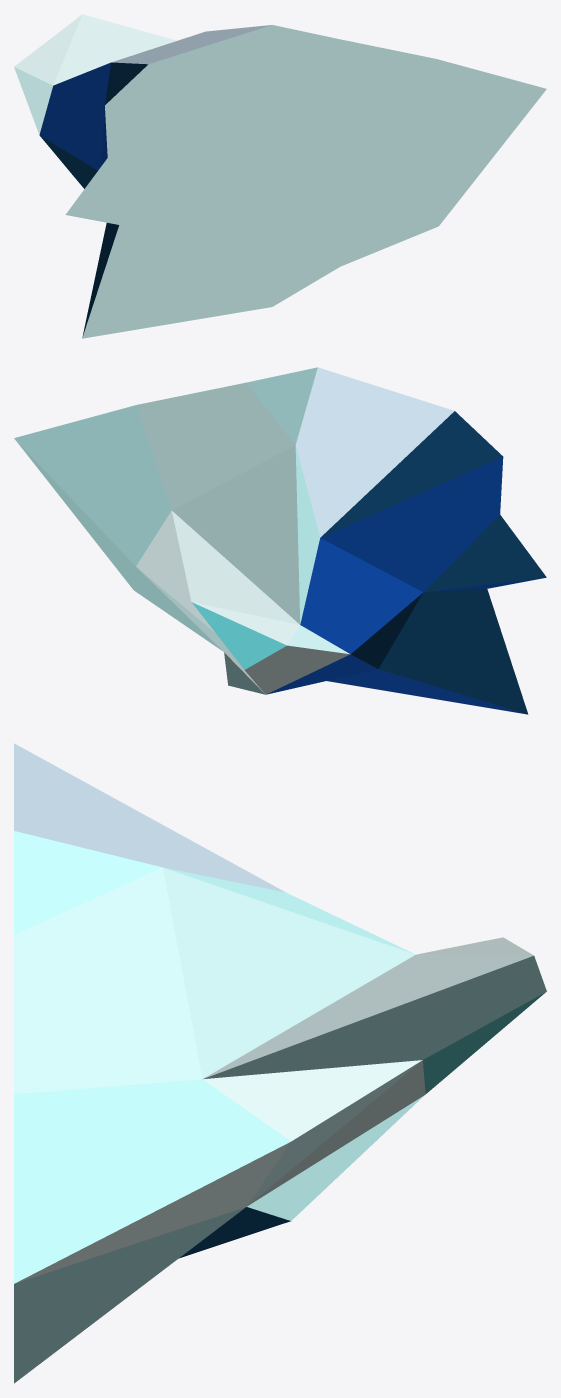
Rendered from winter_middle_rock_3.fbx.
3 views of the same model, one above another, from view 1: azimuth 30°, elevation 25°; view 2: azimuth 150°, elevation 25°; view 3: azimuth 270°, elevation 25° (orthographic). The views are drawn at different scales.
Visible parts, largest first — view 1: winter_middle_rock_3; view 2: winter_middle_rock_3; view 3: winter_middle_rock_3.
Part boxes in pixels (x1,y1,x2,y2): winter_middle_rock_3: (14, 14, 546, 338); winter_middle_rock_3: (14, 367, 546, 714); winter_middle_rock_3: (14, 743, 546, 1383).
Size of the model in its own units: 357 by 200 by 200.
